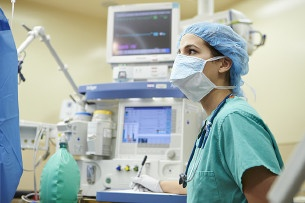Mask: (169, 43, 216, 90)
